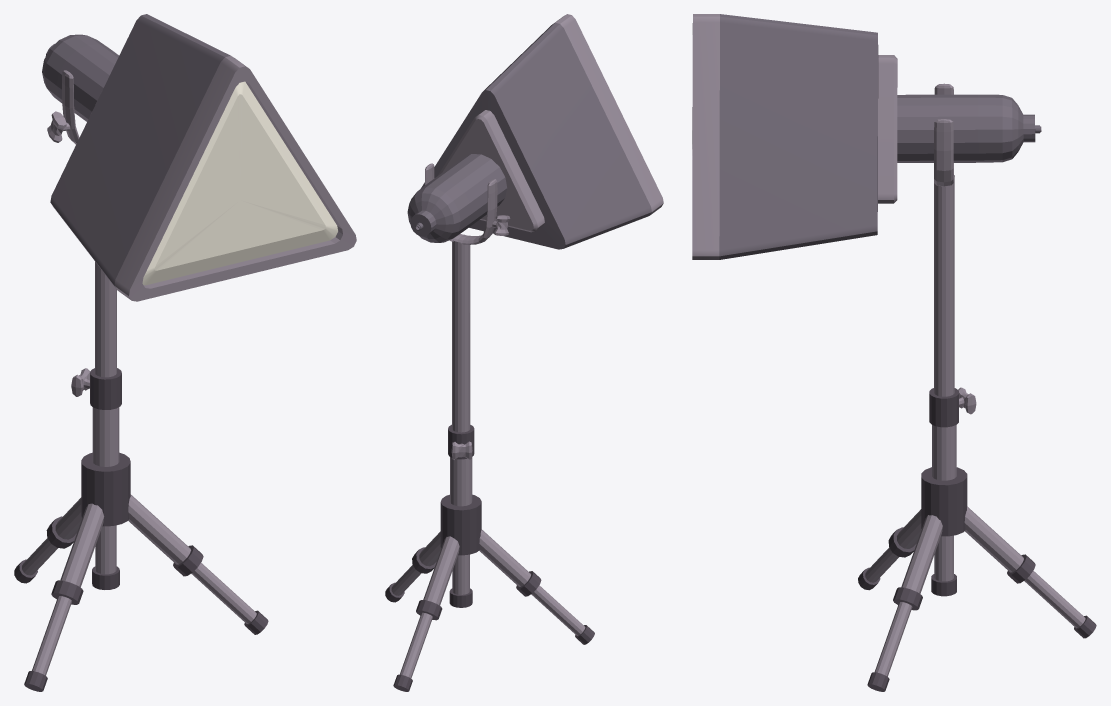
Rendered from PhotoShoot_Light_01.fbx.
3 views of the same model, side by side, from view 1: azimuth 30°, elevation 25°; view 2: azimuth 150°, elevation 25°; view 3: azimuth 270°, elevation 25° (orthographic). The views are drawn at different scales.
Parts seen in each view (by area): view 1: pCylinder1, Stand_01, polySurface90; view 2: pCylinder1, Stand_01, polySurface90; view 3: pCylinder1, Stand_01, polySurface90.
Boxes of the visible parts, <box> form: pCylinder1: <box>50,14,356,301</box>; Stand_01: <box>14,70,268,691</box>; polySurface90: <box>42,34,119,121</box>; pCylinder1: <box>421,14,663,249</box>; Stand_01: <box>385,163,594,691</box>; polySurface90: <box>407,154,506,242</box>; pCylinder1: <box>692,14,897,259</box>; Stand_01: <box>858,83,1096,691</box>; polySurface90: <box>897,94,1041,162</box>.
Size of the model in its own units: 39.14 by 101 by 59.27.
1 material, 1 textured.
